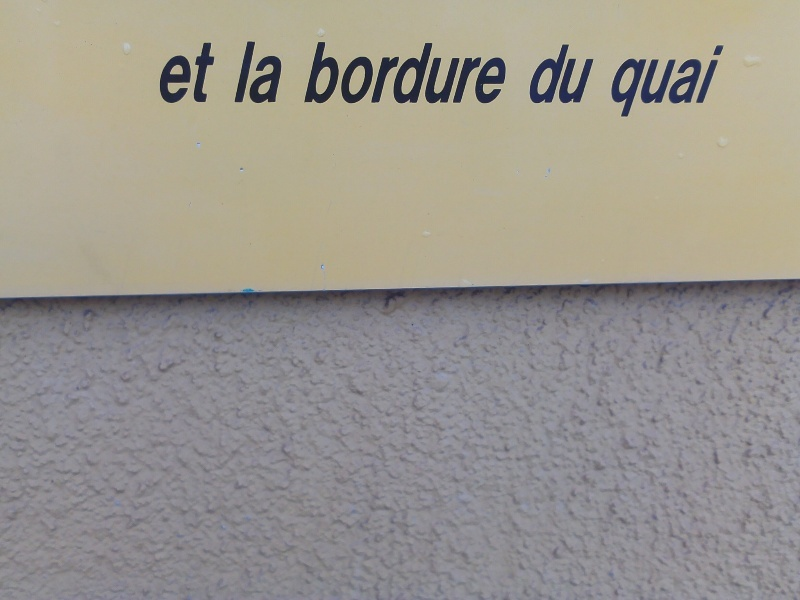text: (625, 44, 640, 120), (641, 44, 656, 120), (657, 44, 672, 120), (673, 44, 688, 120), (689, 44, 704, 120), (705, 44, 720, 120), (321, 39, 336, 108), (337, 39, 352, 108), (353, 39, 368, 108), (369, 39, 384, 108), (385, 39, 400, 108), (401, 39, 416, 108), (417, 39, 432, 108), (433, 39, 448, 108), (449, 39, 464, 108), (465, 39, 480, 108), (481, 39, 496, 108), (497, 39, 512, 108), (257, 41, 272, 104), (545, 42, 560, 105), (561, 42, 576, 105), (577, 42, 592, 105), (177, 42, 192, 104), (193, 42, 208, 104), (273, 41, 287, 104), (165, 42, 176, 104), (209, 42, 219, 104), (248, 41, 256, 104), (593, 42, 600, 105), (721, 44, 726, 120), (315, 39, 320, 108), (621, 44, 624, 120), (513, 39, 516, 108), (541, 42, 544, 105)
